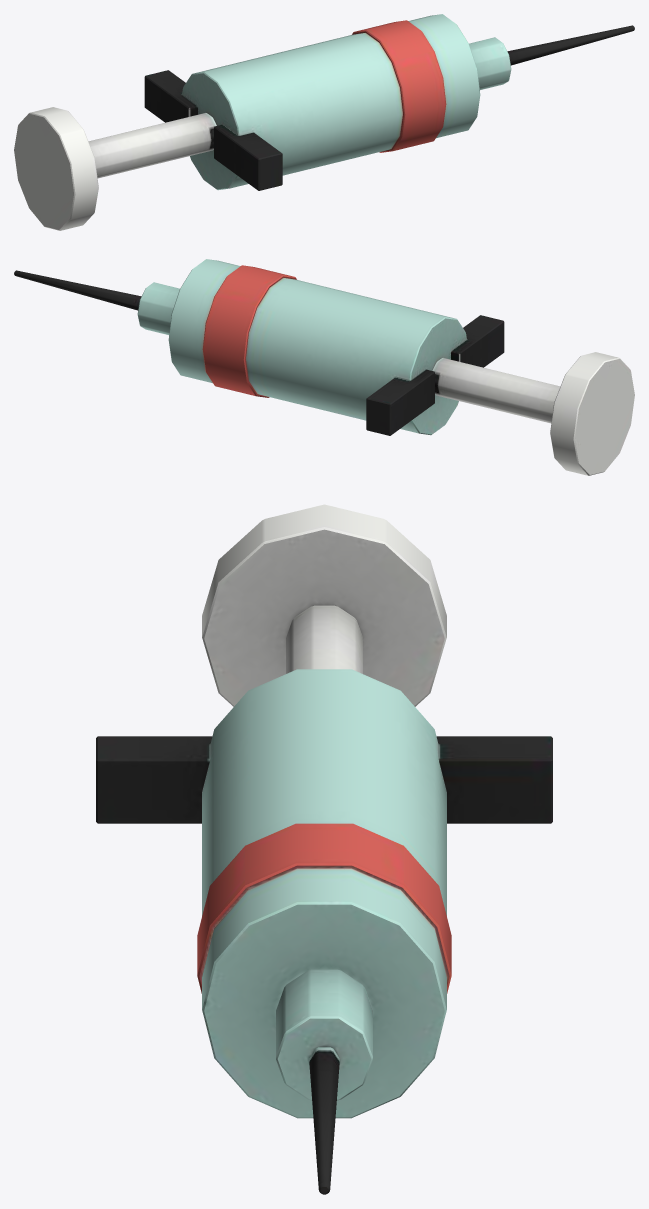
File: IT_antidote.glb
3 renders of one model, top to bottom at view 1: azimuth 30°, elevation 25°; view 2: azimuth 150°, elevation 25°; view 3: azimuth 270°, elevation 25°, orthographic. The views are drawn at different scales.
Parts seen in each view (by area): view 1: IT_antidote; view 2: IT_antidote; view 3: IT_antidote.
Part boxes in pixels (left/top/right/bottom): IT_antidote: left=14, top=14, right=634, bottom=230; IT_antidote: left=14, top=259, right=634, bottom=475; IT_antidote: left=96, top=504, right=552, bottom=1194.
Size of the model in its own units: 0.835 by 0.1521 by 0.28.
1 material, 1 textured.
